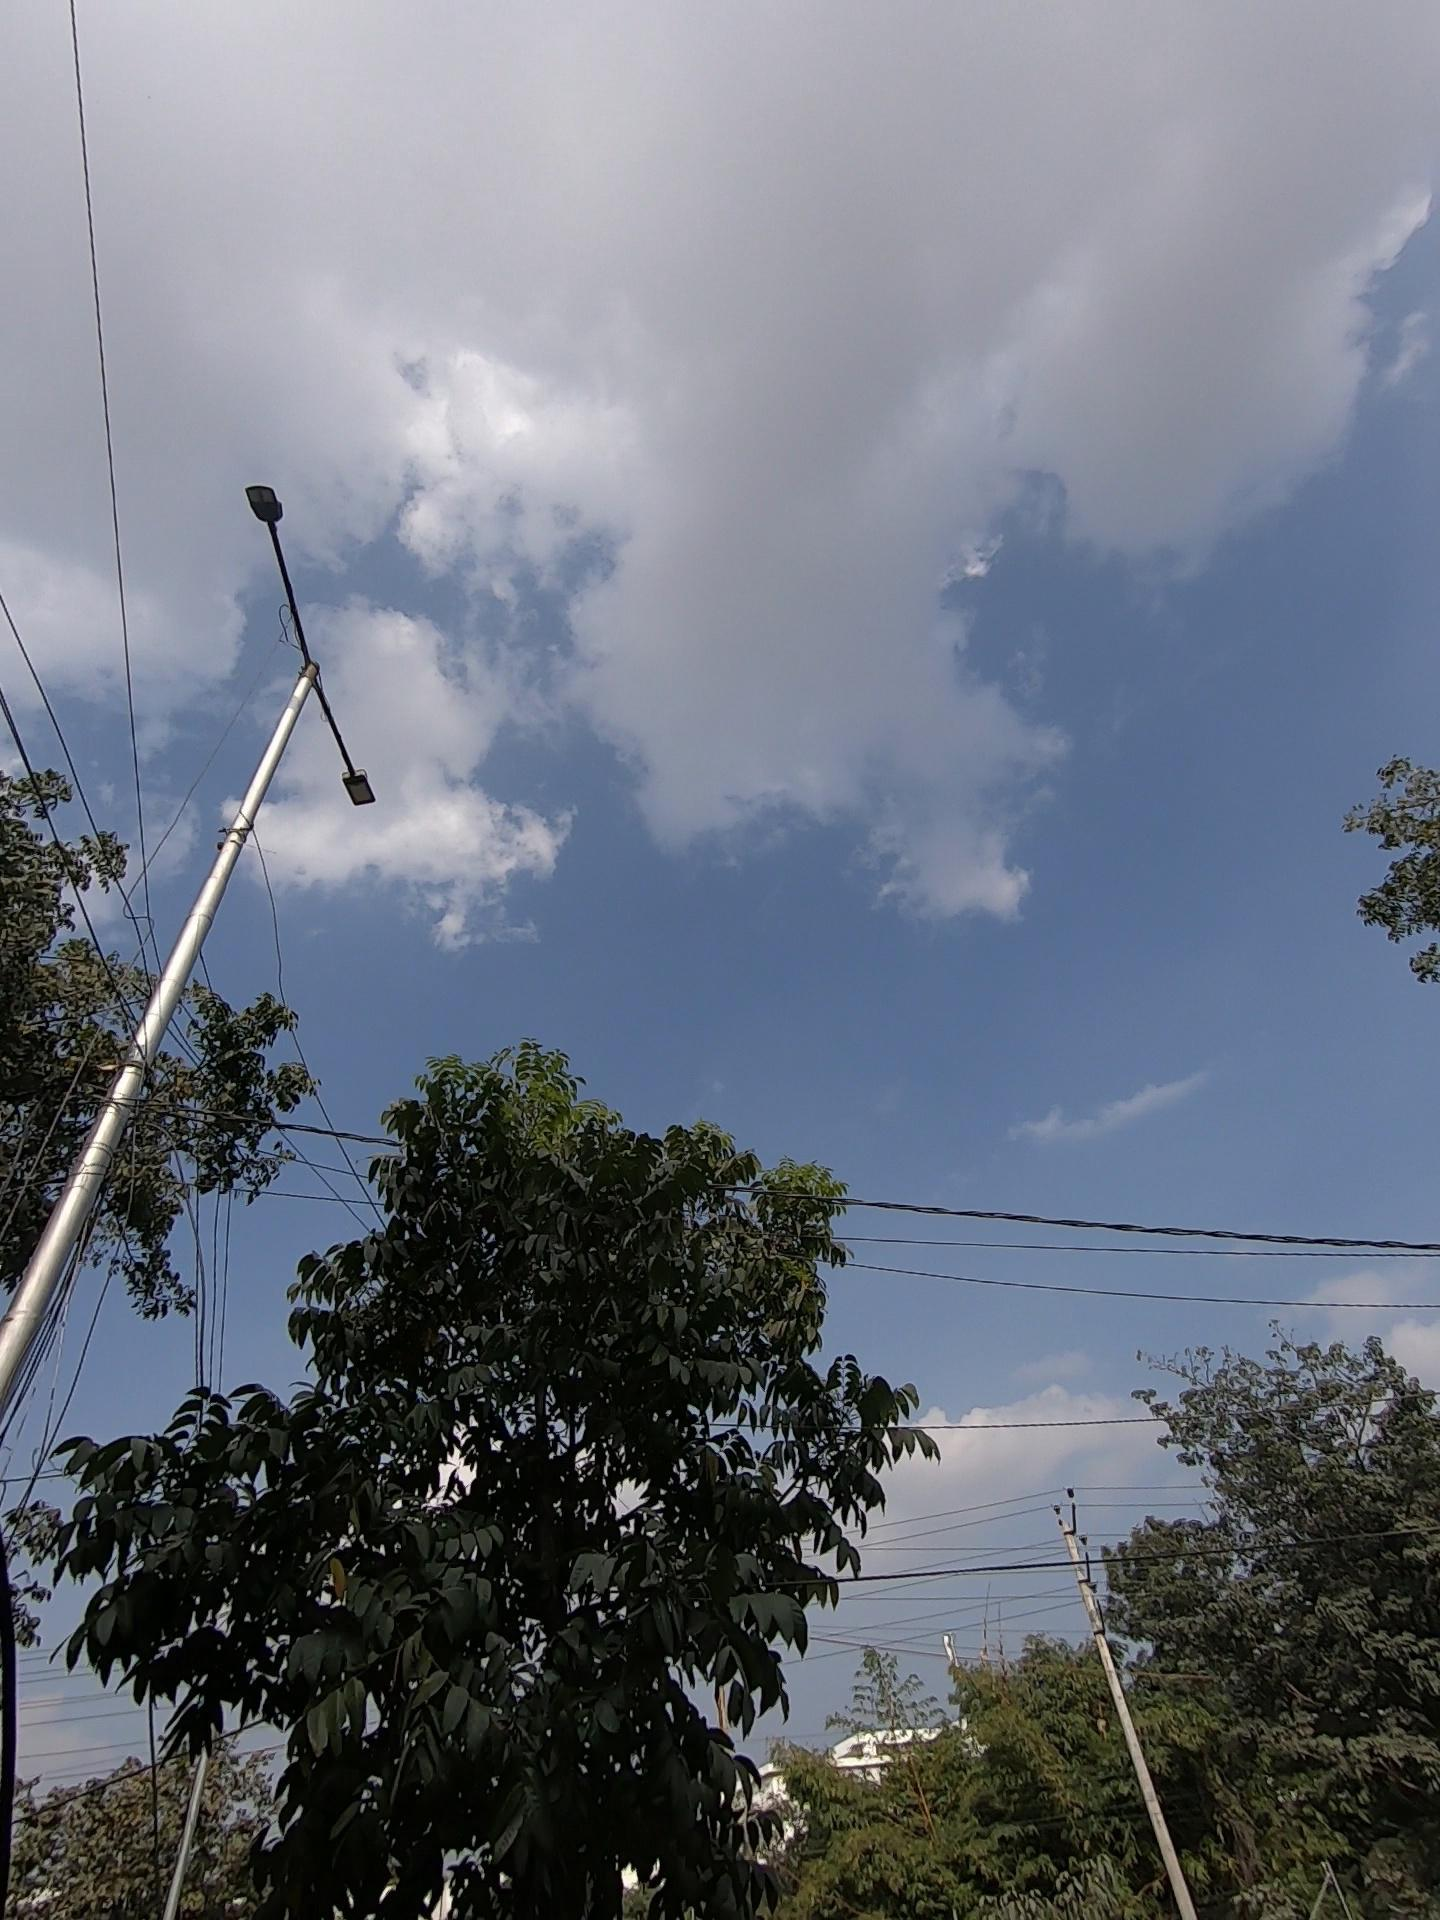off: (200, 461, 443, 900)
